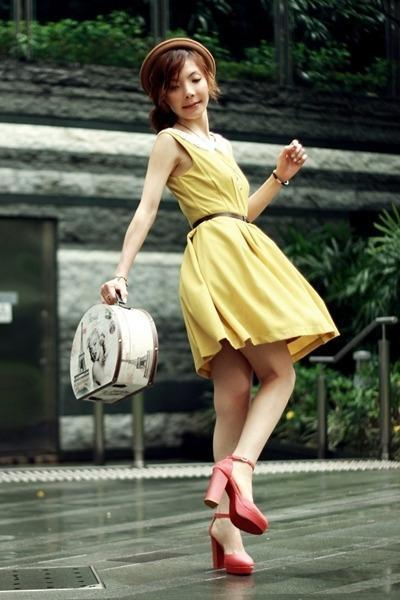bag: (70, 301, 157, 402)
dress: (159, 132, 339, 383)
hat: (158, 38, 215, 83)
shoe: (203, 459, 267, 577)
